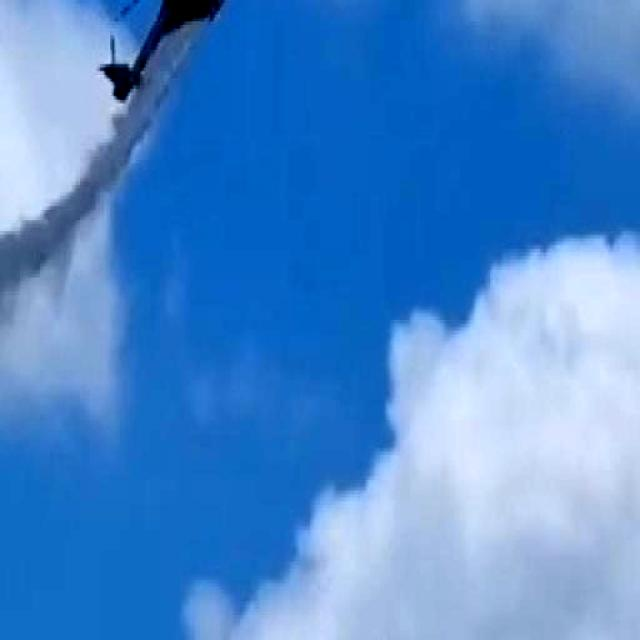drone: (98, 0, 251, 109)
